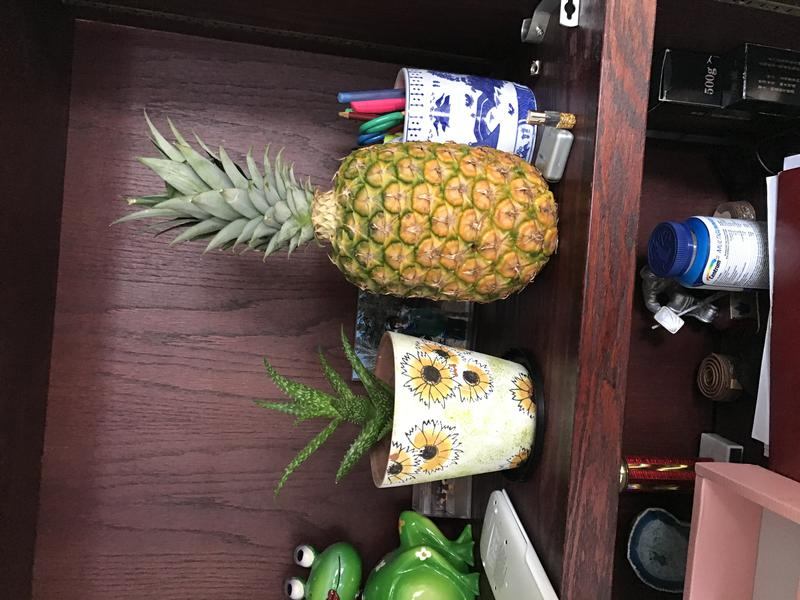pineapple: (101, 103, 567, 310)
